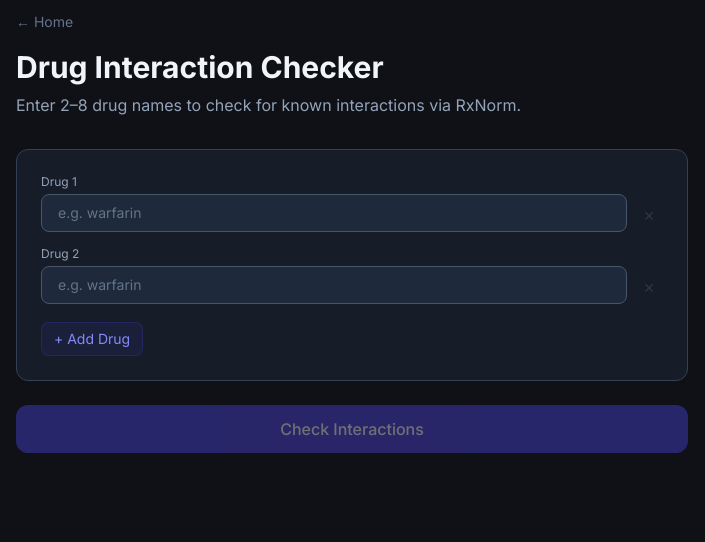
Test: InteractionsClient › adds a new drug input when Add Drug is clicked
Click the button with test id "add-drug-button" at (92, 339), box [41,322,143,356]
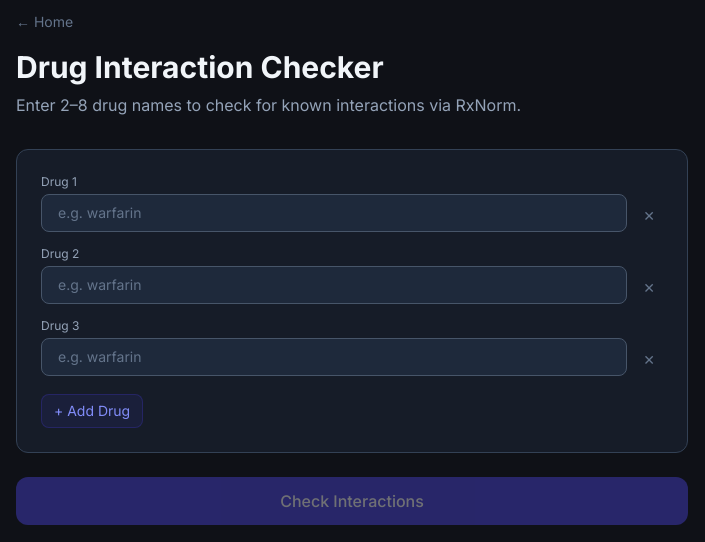
Expected: the field with test id "drug-input-2" is shown, [41,338,627,376]
